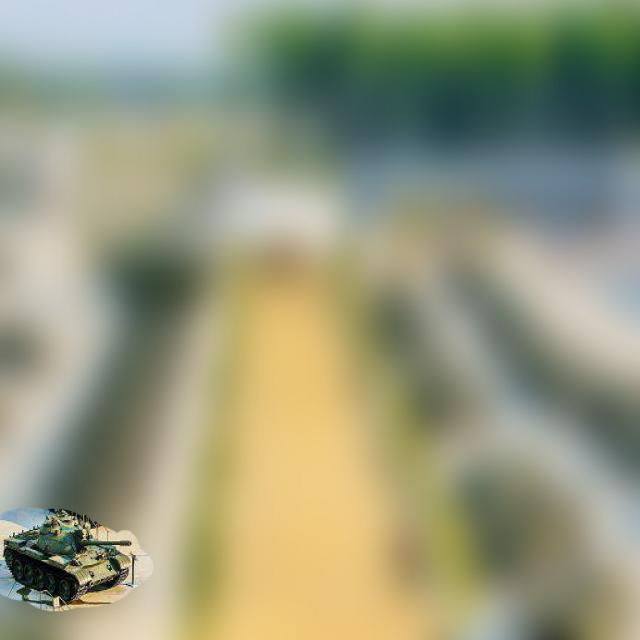tank: (3, 507, 142, 608)
